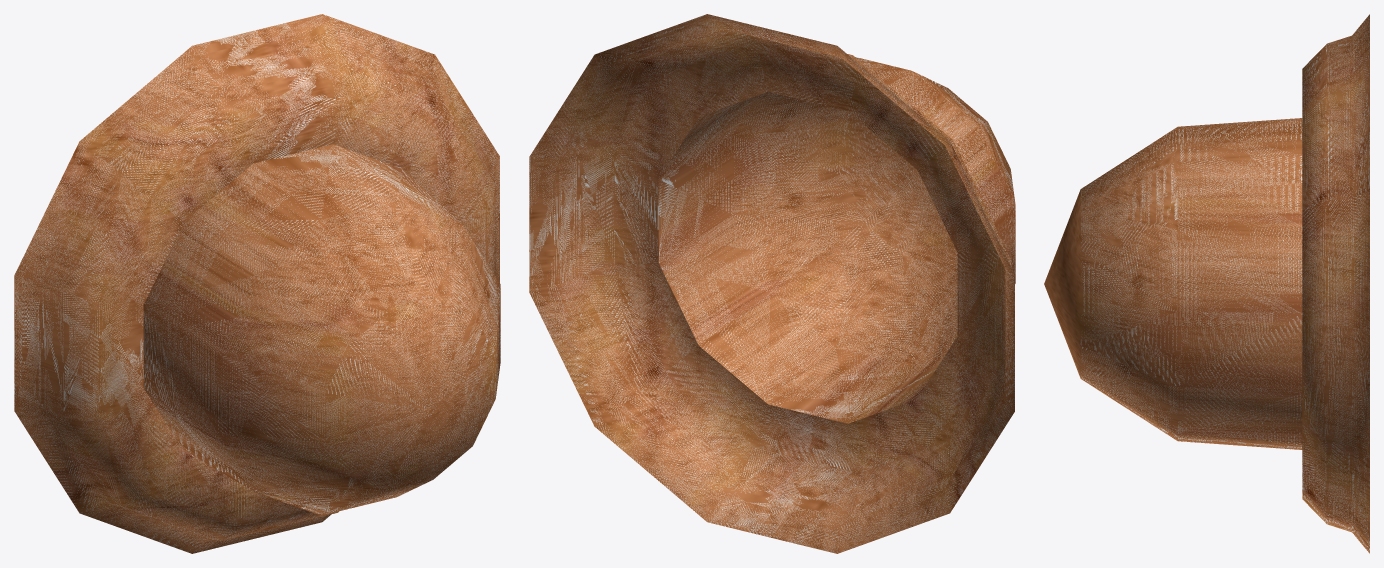
File: original-54.obj
The picture shows the model from 3 angles, left to right: view 1: azimuth 30°, elevation 25°; view 2: azimuth 150°, elevation 25°; view 3: azimuth 270°, elevation 25°; orthographic projection. The views are drawn at different scales.
Parts seen in each view (by area): view 1: mesh41/mesh41-geometry#mesh41-geometry; view 2: mesh41/mesh41-geometry#mesh41-geometry; view 3: mesh41/mesh41-geometry#mesh41-geometry.
Boxes of the visible parts, x1,y1,x2,y2 form: mesh41/mesh41-geometry#mesh41-geometry: (14, 14, 500, 553); mesh41/mesh41-geometry#mesh41-geometry: (529, 14, 1015, 553); mesh41/mesh41-geometry#mesh41-geometry: (1044, 14, 1369, 553).
Bounding box in the file's own units: 0.0188 × 0.0188 × 0.0116.
